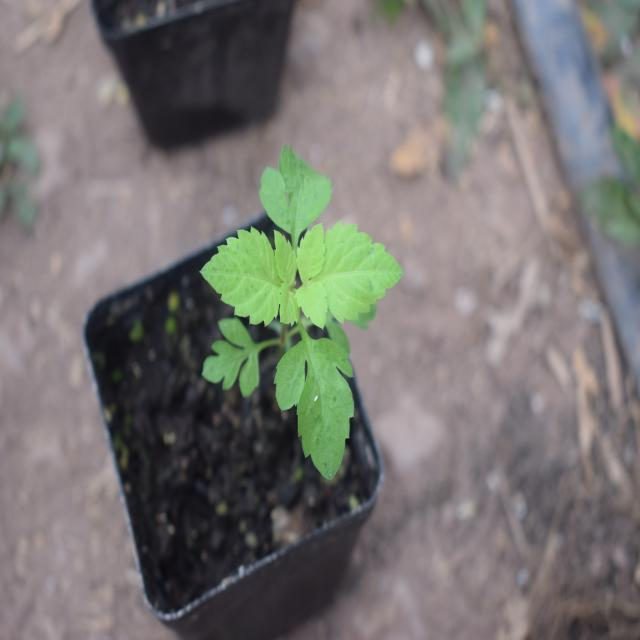Bidens pilosa: (204, 143, 406, 478)
